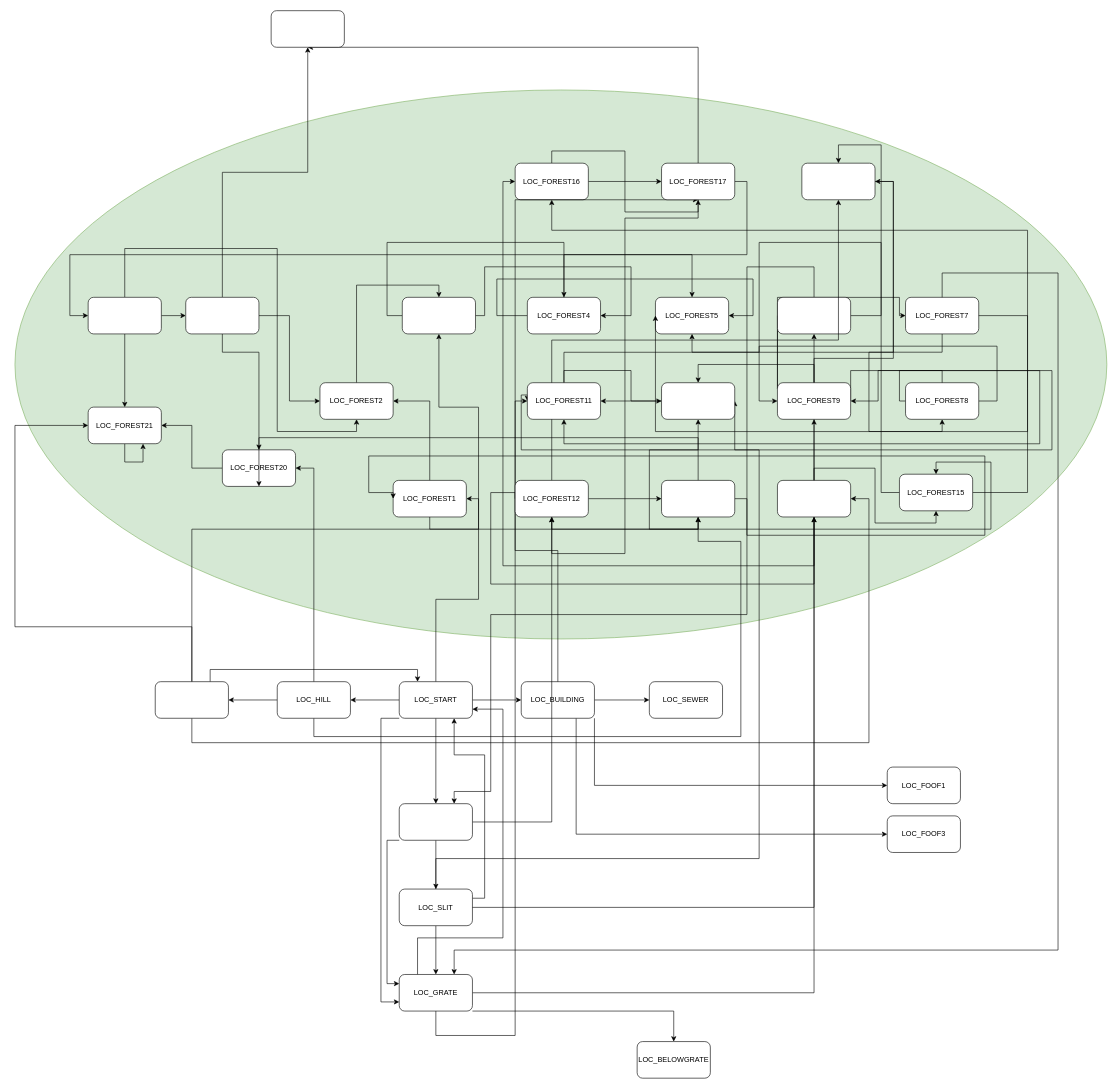
Image size: 1118x1089. Some labels were removed from this diagram. Each missing label, with the box of its shape:
FOREST6: (777, 297, 851, 334)
LOC_CLIFF: (271, 10, 344, 47)
LOC_FOREST10: (661, 382, 735, 419)
LOC_FOREST13: (661, 480, 735, 517)
LOC_FOREST14: (777, 480, 851, 517)
LOC_FOREST18: (88, 297, 161, 334)
LOC_FOREST19: (185, 297, 259, 334)
LOC_FOREST22: (801, 163, 875, 200)
LOC_FOREST3: (402, 297, 475, 334)
LOC_ROADEND: (155, 681, 228, 718)
LOC_VALLEY: (399, 803, 472, 840)
